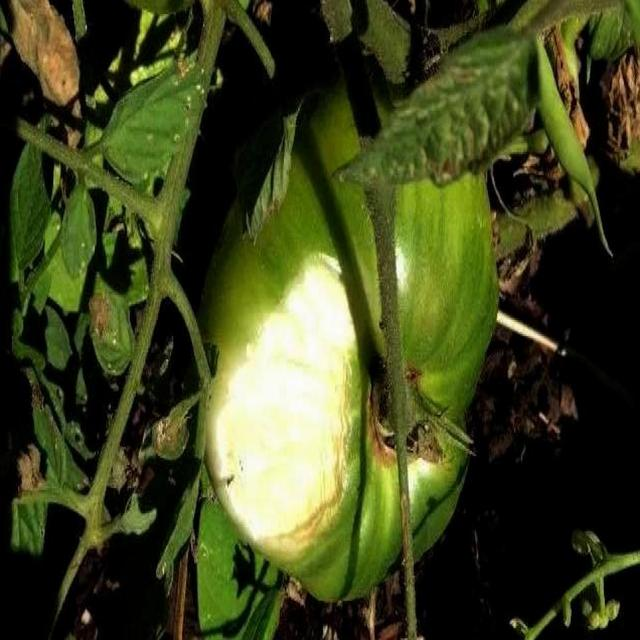Sunscald Fruit: (140, 170, 232, 367)
